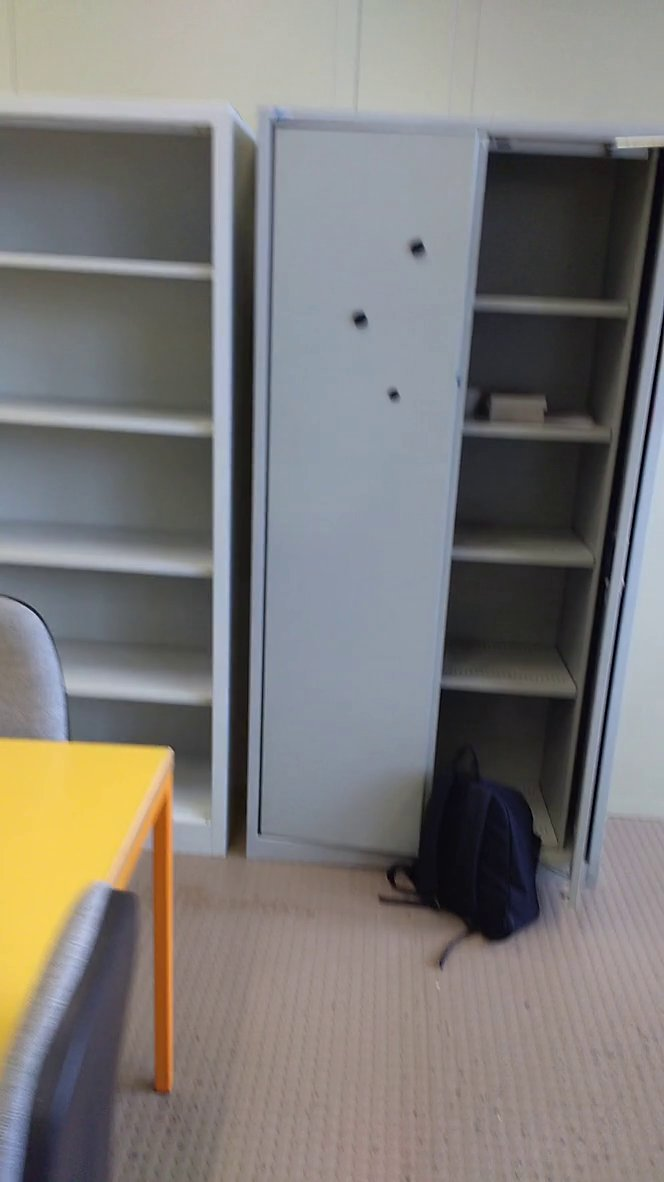bag: (381, 736, 550, 958)
chair: (1, 873, 163, 1182)
